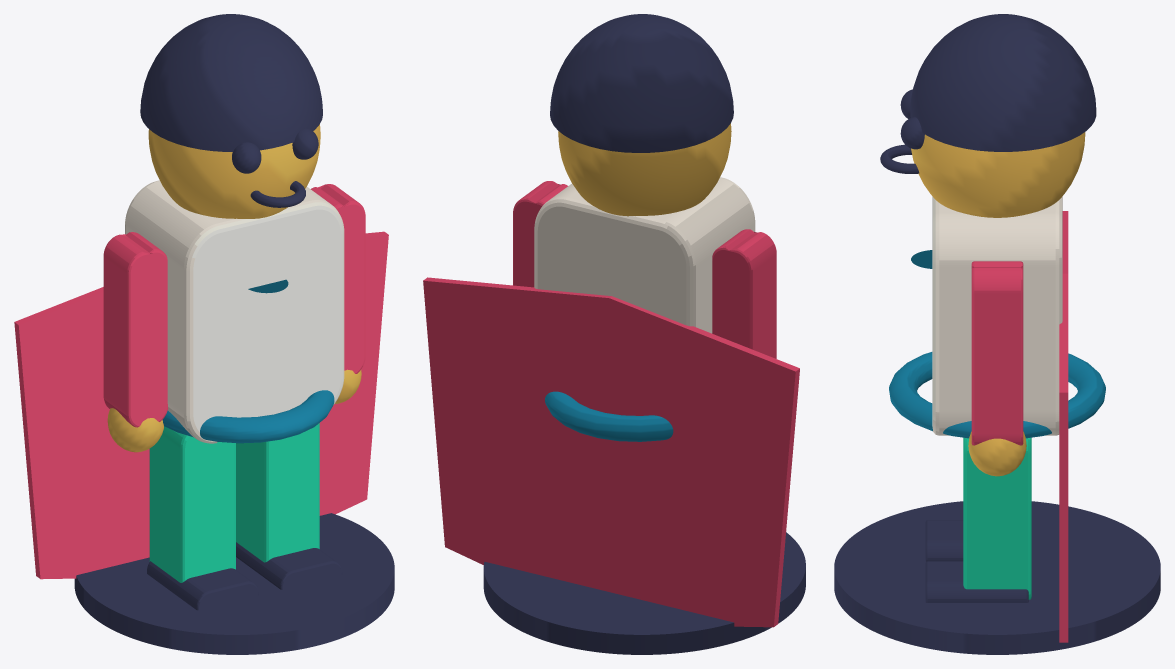
Rendered from 1174_海底两万里_漂流盒子.glb.
3 renders of one model, left to right at view 1: azimuth 30°, elevation 25°; view 2: azimuth 150°, elevation 25°; view 3: azimuth 270°, elevation 25°, orthographic.
Visible parts, largest first — view 1: card_1174; view 2: card_1174; view 3: card_1174.
Boxes of the visible parts, x1,y1,x2,y2 form: card_1174: [14, 14, 394, 654]; card_1174: [423, 14, 805, 654]; card_1174: [834, 14, 1160, 654].
Size of the model in its own units: 0.6739 by 1 by 0.5121.
